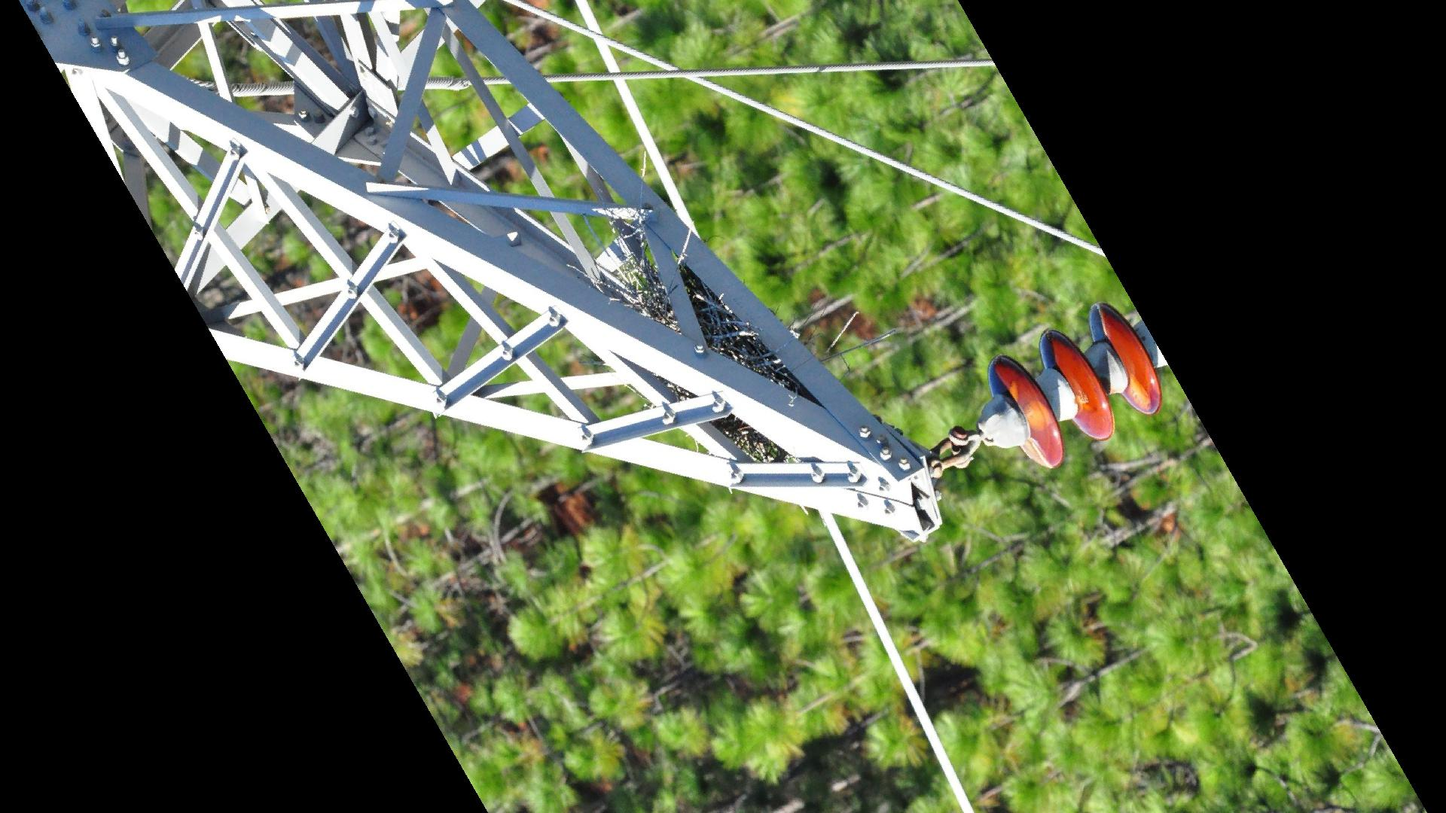insulator: (985, 298, 1167, 471)
insulator_flashover: (1124, 372, 1155, 414), (1021, 398, 1055, 432), (1020, 437, 1054, 469)
